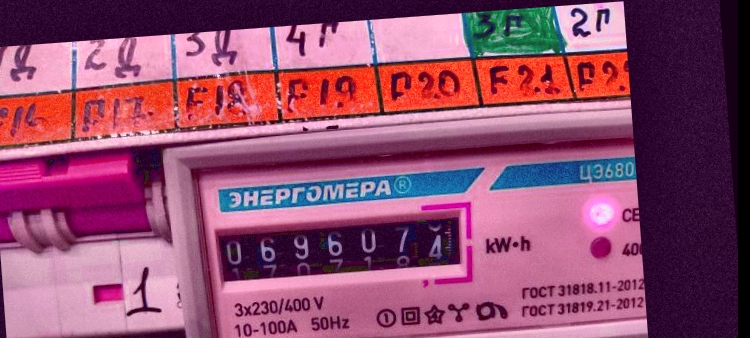0: (222, 236, 245, 266), (358, 224, 378, 254), (258, 234, 276, 261)
4: (425, 232, 444, 261)
6: (323, 226, 343, 257)
7: (391, 222, 411, 252)
9: (290, 231, 310, 260)
screen: (199, 197, 478, 300)
